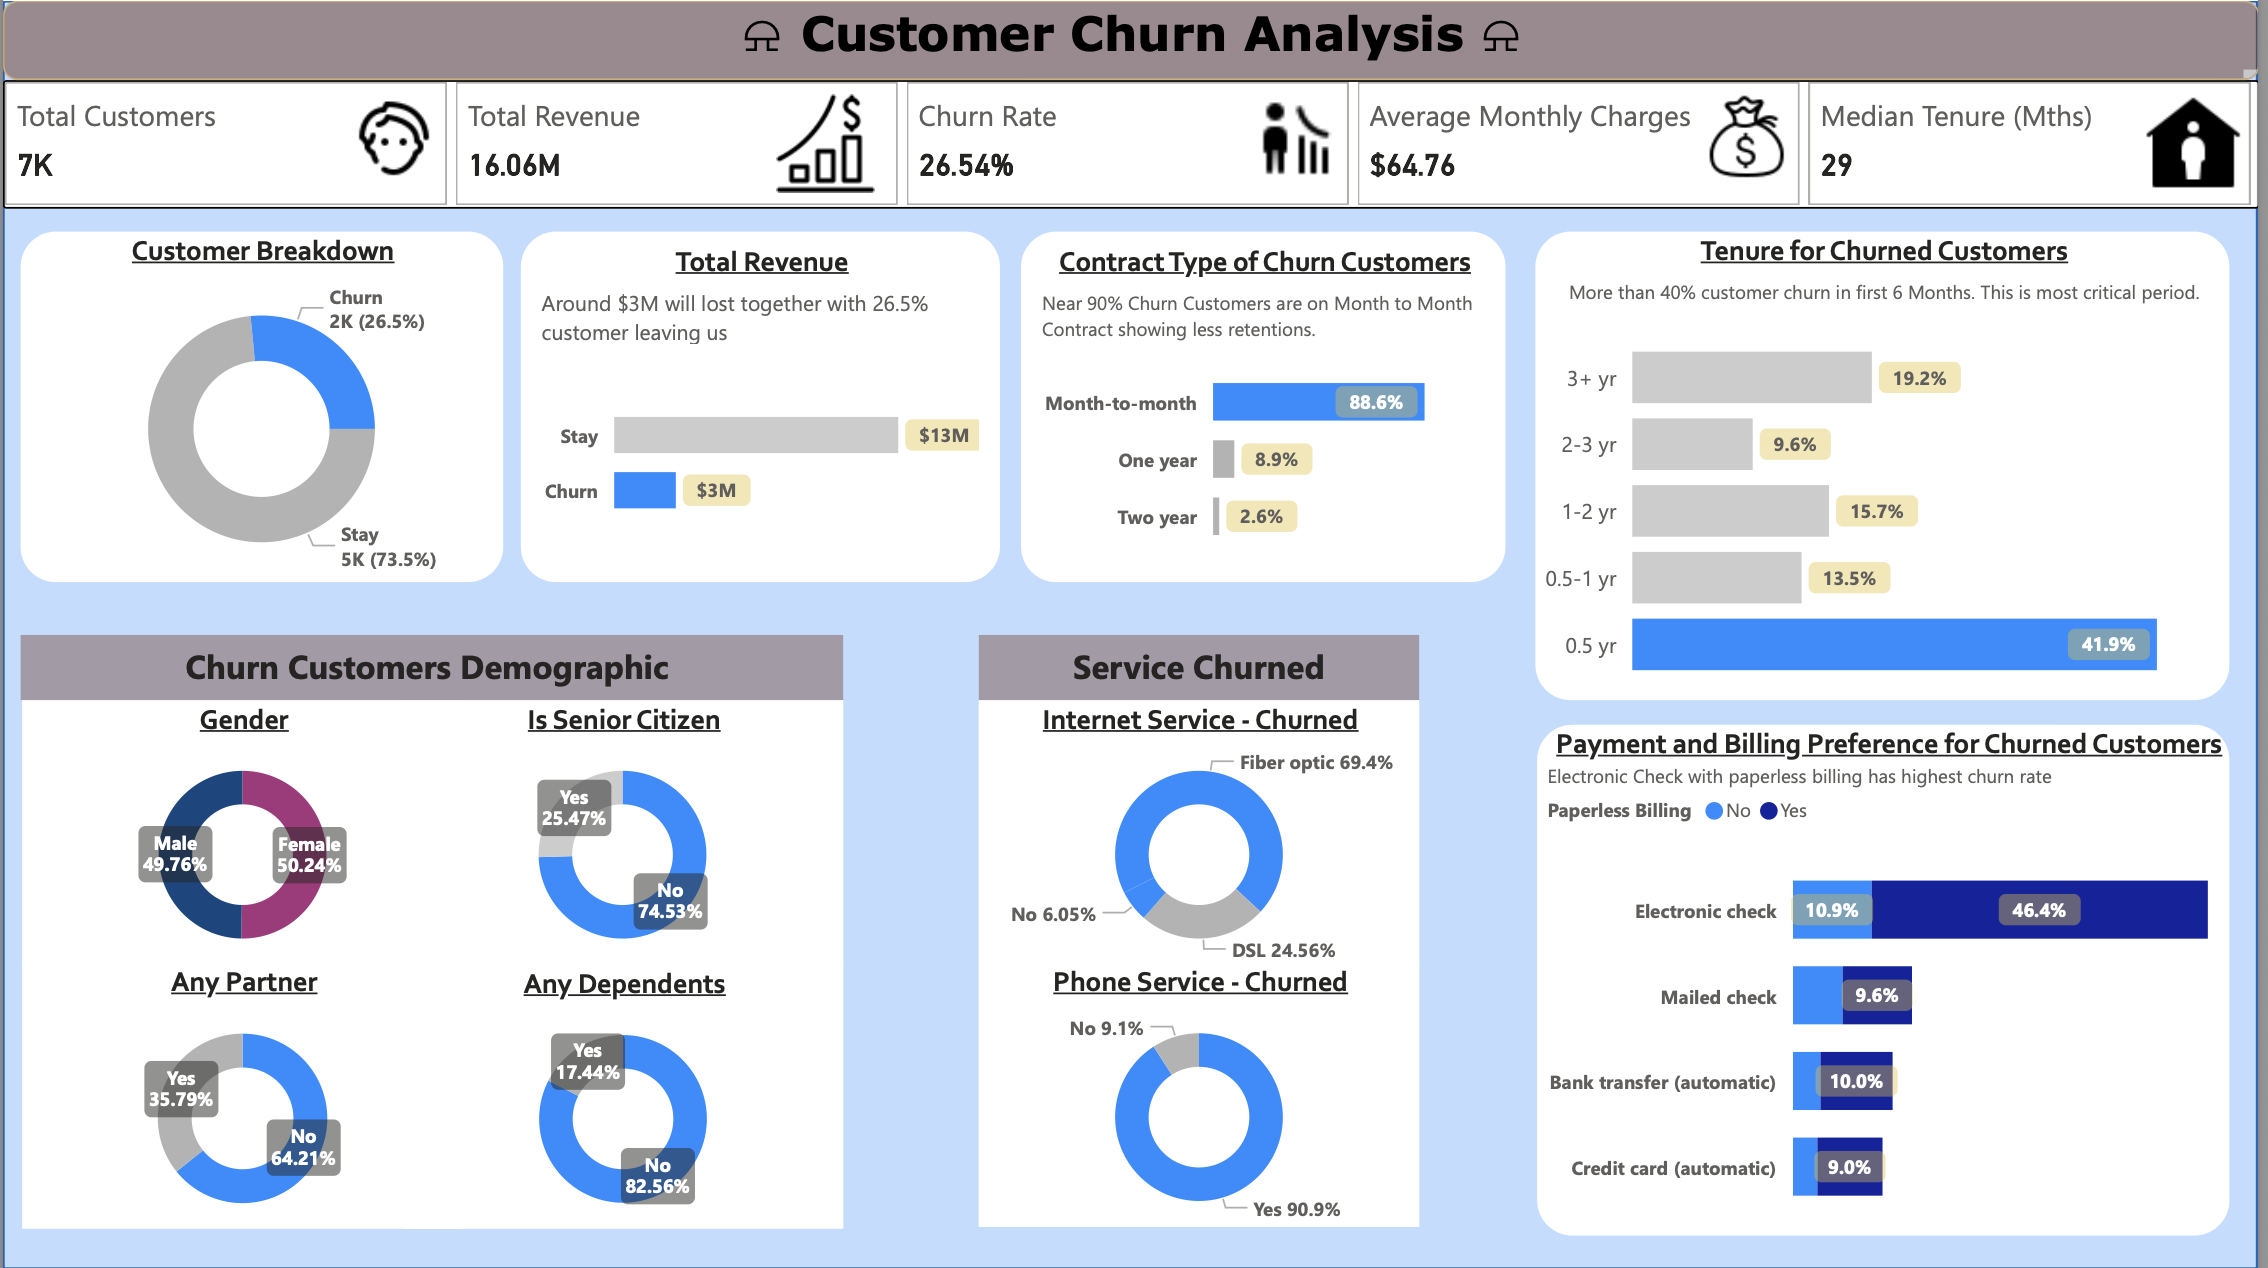

Layout of this report page (visuals, bound fields, positions):
{"tool":"powerbi","page":{"name":"Dashboard","canvas":[1280,720],"ordinal":0},"visuals":[{"type":"shape","box":[0,0,1280,720],"z":0},{"type":"donutChart","title":"Customer Breakdown","fields":{"Y":["Tel_Cus_Churn.Stay Customer","Tel_Cus_Churn.Churn Customer"]},"box":[10.3,130.9,273.5,198.5],"z":1000},{"type":"clusteredBarChart","title":"Total Revenue","fields":{"Y":["Sum(Tel_Cus_Churn.TotalCharges)"],"Category":["Tel_Cus_Churn.ChurnStatus"]},"box":[294.1,130.9,272.1,198.5],"z":2000},{"type":"cardVisual","fields":{"Data":["Tel_Cus_Churn.Total Customers","Tel_Cus_Churn.Total Revenue","Tel_Cus_Churn.Churn Rate","Tel_Cus_Churn.Average Monthly Charges","Tel_Cus_Churn.Average Tenure"]},"box":[0,45.2,1280.6,72.6],"z":3000},{"type":"textbox","title":"⍾ Customer Churn Analysis ⍾","box":[0,0,1280.6,45.2],"z":4000},{"type":"clusteredBarChart","title":"Contract Type of Churn Customers","fields":{"Category":["Tel_Cus_Churn.Contract"],"Y":["Tel_Cus_Churn.Churn Customer"]},"box":[577.9,130.9,275,198.5],"z":5000},{"type":"clusteredBarChart","title":"Tenure for Churned Customers","fields":{"Category":["Tel_Cus_Churn.TenureGroup"],"Y":["CountNonNull(Tel_Cus_Churn.tenure)"]},"box":[870,131.4,394.3,265.7],"z":6000},{"type":"donutChart","title":"Gender ","fields":{"Category":["Tel_Cus_Churn.gender"],"Y":["CountNonNull(Tel_Cus_Churn.customerID)"]},"box":[11.4,397.1,250,150],"z":7000},{"type":"donutChart","title":"Any Partner","fields":{"Category":["Tel_Cus_Churn.Partner"],"Y":["CountNonNull(Tel_Cus_Churn.customerID)"]},"box":[11.4,545.7,250,151.4],"z":8000},{"type":"donutChart","title":"Is Senior Citizen","fields":{"Y":["CountNonNull(Tel_Cus_Churn.customerID)"],"Category":["Tel_Cus_Churn.SeniorCitizenStatus"]},"box":[225.7,397.1,251.4,150],"z":9000},{"type":"donutChart","title":"Any Dependents","fields":{"Category":["Tel_Cus_Churn.Dependents"],"Y":["CountNonNull(Tel_Cus_Churn.customerID)"]},"box":[227.1,547.1,250,150],"z":10000},{"type":"textbox","box":[10,360,467.1,37.1],"z":11000},{"type":"barChart","title":"Payment and Billing Preference  for Churned Customers","fields":{"Category":["Tel_Cus_Churn.PaymentMethod"],"Y":["CountNonNull(Tel_Cus_Churn.customerID)"],"Series":["Tel_Cus_Churn.PaperlessBilling"]},"box":[871.4,411.4,392.9,290],"z":12000},{"type":"donutChart","title":"Internet Service  - Churned","fields":{"Y":["CountNonNull(Tel_Cus_Churn.customerID)"],"Category":["Tel_Cus_Churn.InternetService Hierarchy.InternetService"]},"box":[554.3,397.1,250,150],"z":13000},{"type":"donutChart","title":"Phone Service - Churned ","fields":{"Y":["CountNonNull(Tel_Cus_Churn.customerID)"],"Category":["Tel_Cus_Churn.PhoneService Hierarchy.PhoneService"]},"box":[554.3,545.7,250,150],"z":14000},{"type":"textbox","box":[554.3,360,250,37.1],"z":15000}]}

Visuals, with their boxes in screenshot pixels (x1, y1, x2, y2), scaled from the page's 1280x720 canvas onto the 2268x1268 screenshot:
shape: {"left": 0, "top": 0, "right": 2267, "bottom": 1267}
"Customer Breakdown" donutChart: {"left": 18, "top": 231, "right": 503, "bottom": 580}
"Total Revenue" clusteredBarChart: {"left": 521, "top": 231, "right": 1003, "bottom": 580}
cardVisual - Tel_Cus_Churn.Total Customers x Tel_Cus_Churn.Total Revenue: {"left": 0, "top": 80, "right": 2267, "bottom": 207}
"⍾ Customer Churn Analysis ⍾" textbox: {"left": 0, "top": 0, "right": 2267, "bottom": 80}
"Contract Type of Churn Customers" clusteredBarChart: {"left": 1024, "top": 231, "right": 1511, "bottom": 580}
"Tenure for Churned Customers" clusteredBarChart: {"left": 1542, "top": 231, "right": 2240, "bottom": 699}
"Gender " donutChart: {"left": 20, "top": 699, "right": 463, "bottom": 964}
"Any Partner" donutChart: {"left": 20, "top": 961, "right": 463, "bottom": 1228}
"Is Senior Citizen" donutChart: {"left": 400, "top": 699, "right": 845, "bottom": 964}
"Any Dependents" donutChart: {"left": 402, "top": 964, "right": 845, "bottom": 1228}
textbox: {"left": 18, "top": 634, "right": 845, "bottom": 699}
"Payment and Billing Preference  for Churned Customers" barChart: {"left": 1544, "top": 725, "right": 2240, "bottom": 1235}
"Internet Service  - Churned" donutChart: {"left": 982, "top": 699, "right": 1425, "bottom": 964}
"Phone Service - Churned " donutChart: {"left": 982, "top": 961, "right": 1425, "bottom": 1225}
textbox: {"left": 982, "top": 634, "right": 1425, "bottom": 699}
